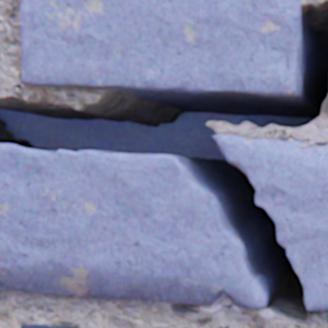brick: (22, 0, 300, 96), (22, 324, 72, 327)
broken_brick: (0, 144, 267, 308), (213, 135, 327, 312)
crack: (0, 1, 327, 326)
